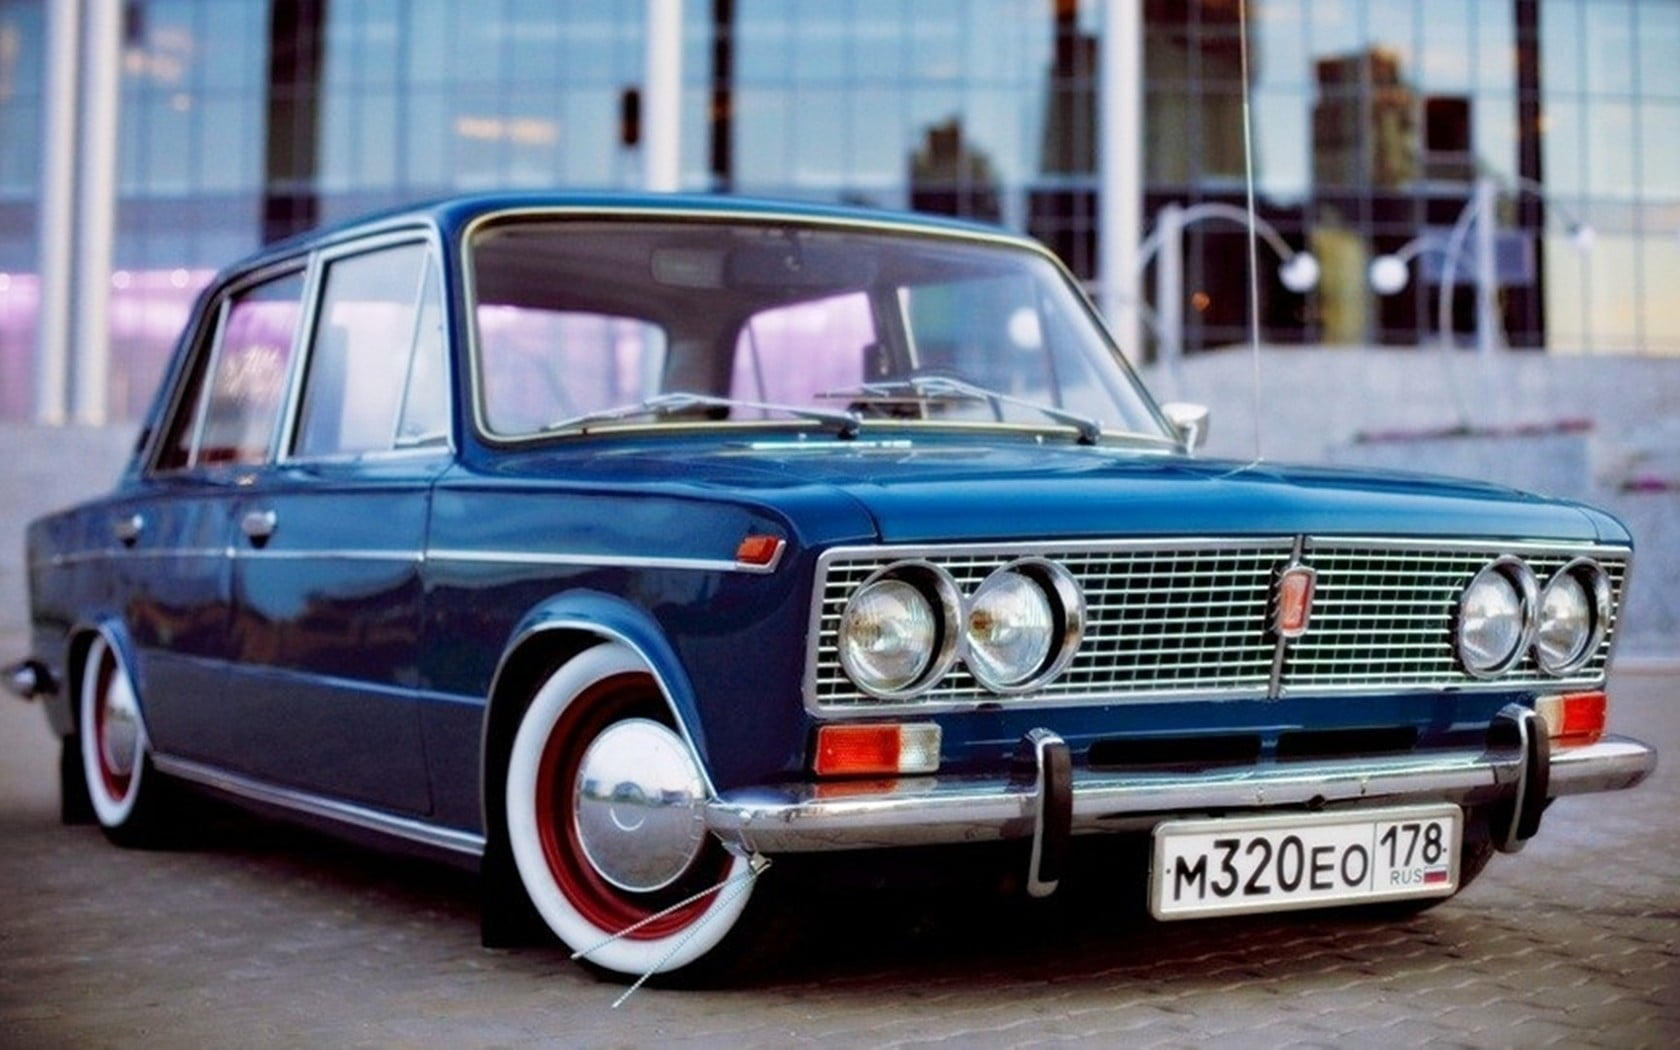car_front: (766, 487, 1657, 913)
plate: (1162, 811, 1461, 918)
